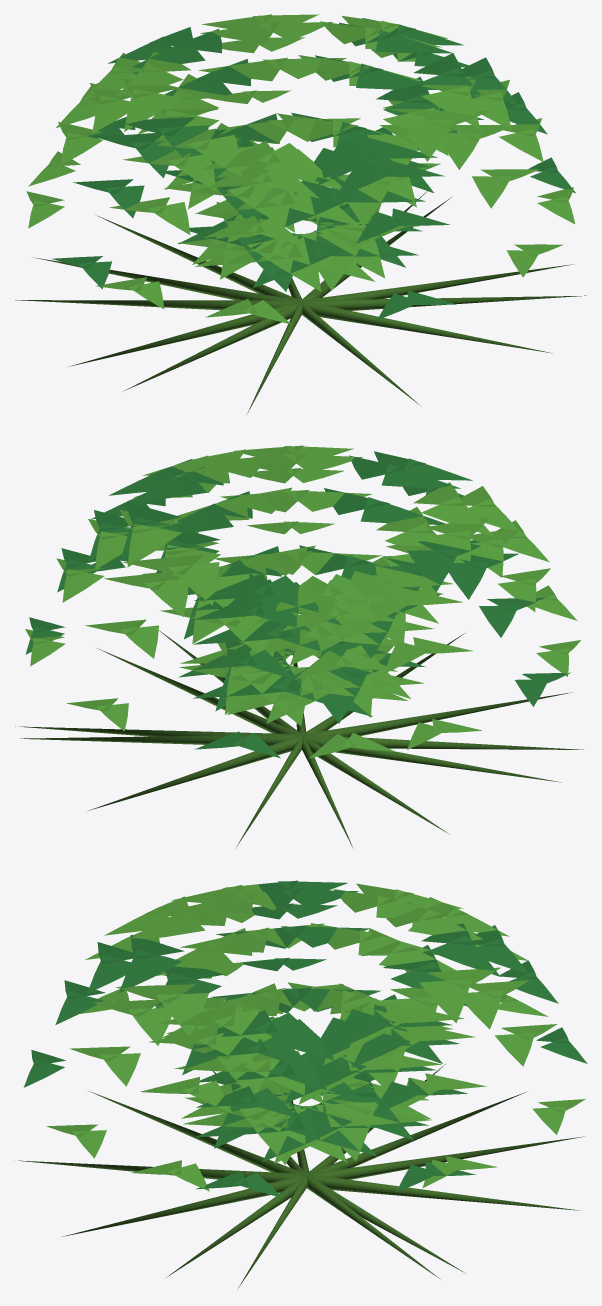
File: plant_fern-a.glb
3 views of the same model, one above another, from view 1: azimuth 30°, elevation 25°; view 2: azimuth 150°, elevation 25°; view 3: azimuth 270°, elevation 25° (orthographic). The views are drawn at different scales.
Parts seen in each view (by area): view 1: plant_fern-a; view 2: plant_fern-a; view 3: plant_fern-a.
Boxes of the visible parts, <box> form: plant_fern-a: <box>15,14,586,413</box>; plant_fern-a: <box>15,445,583,848</box>; plant_fern-a: <box>18,880,587,1289</box>.
Bounding box in the file's own units: 0.691 × 0.3 × 0.687.
